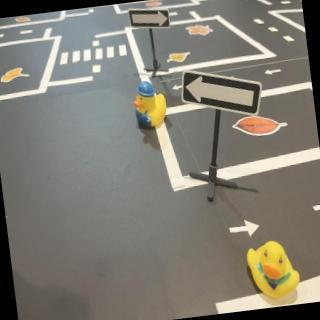duck_regular: (246, 240, 304, 305)
duck_specialty: (131, 80, 171, 134)
road_crosswalk: (57, 42, 135, 69)
road_oneway: (229, 220, 262, 242), (265, 66, 287, 78), (172, 82, 186, 95)
sign_oneway_left: (181, 64, 267, 124)
sign_oneway_right: (128, 3, 173, 33)
